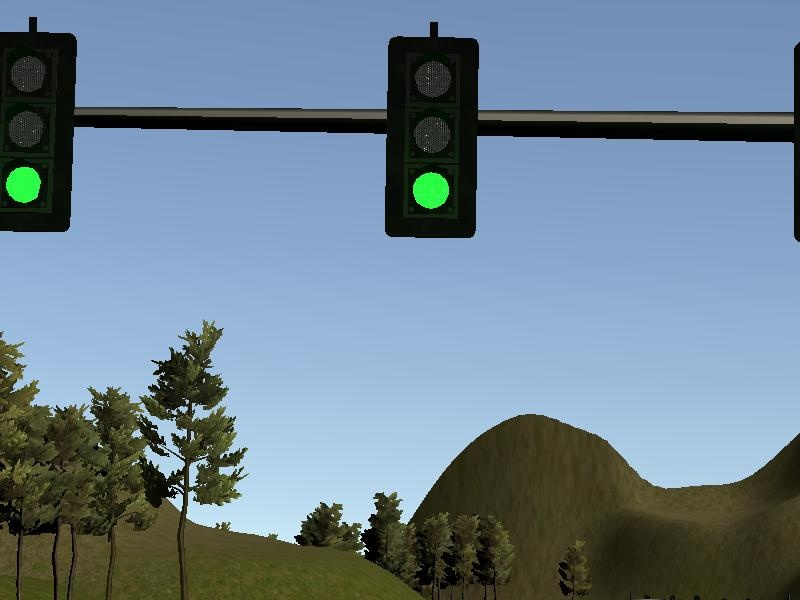GREEN: (383, 34, 480, 240), (3, 31, 74, 232)
